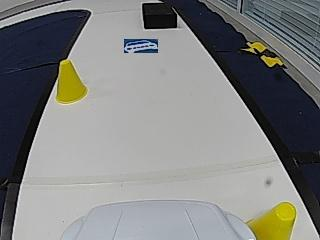block: (142, 2, 177, 29)
cone: (257, 194, 298, 239), (55, 60, 88, 104)
